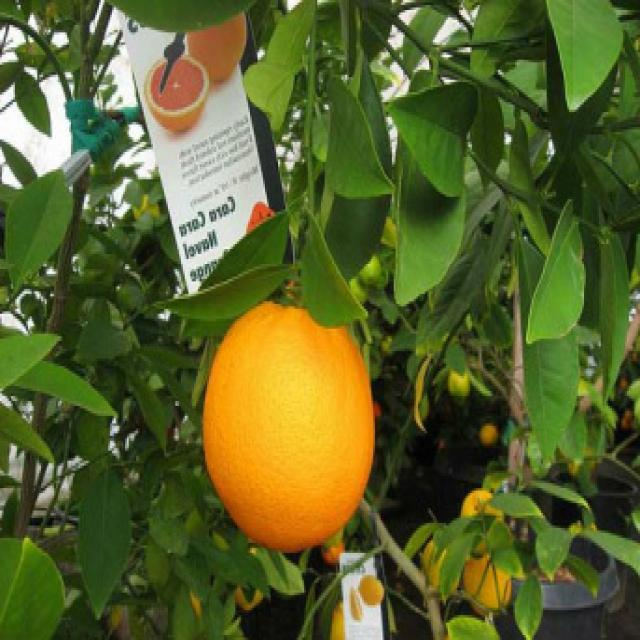Orange: (198, 301, 373, 550)
